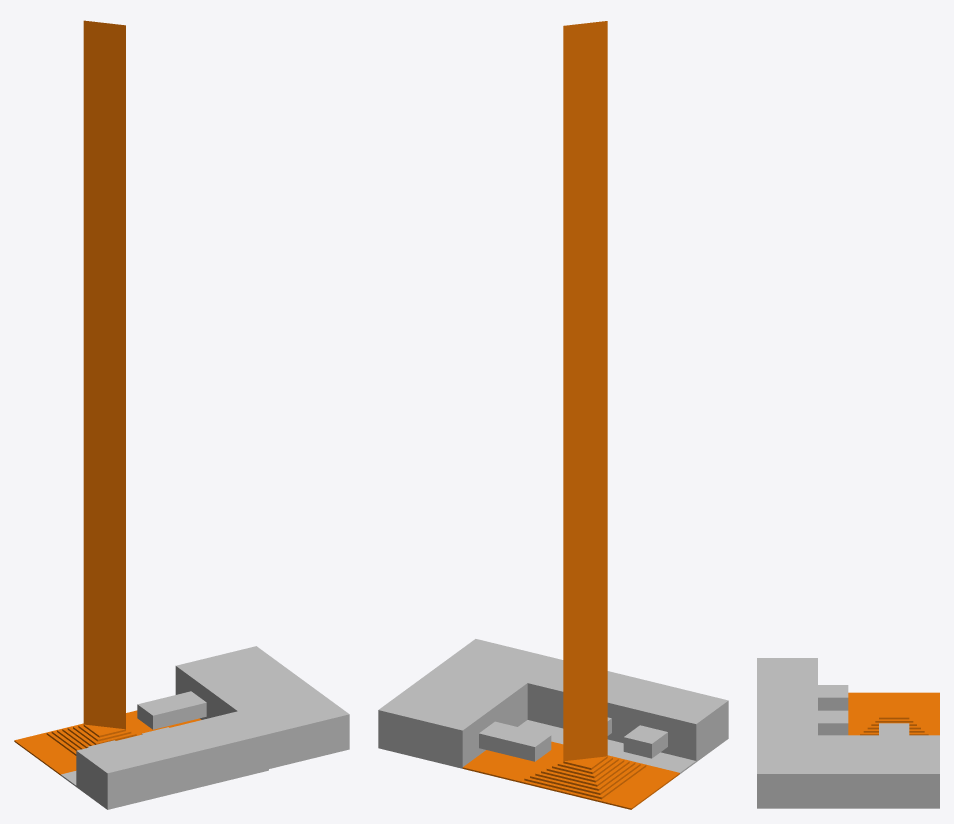
File: world_center.gltf
3 views of the same model, side by side, from view 1: azimuth 30°, elevation 25°; view 2: azimuth 150°, elevation 25°; view 3: azimuth 270°, elevation 25° (orthographic). The views are drawn at different scales.
Parts seen in each view (by area): view 1: beacon, world_center_building; view 2: beacon, world_center_building; view 3: world_center_building, beacon.
Part boxes in pixels (x1=…): beacon: x1=14, y1=20, x2=201, y2=775; world_center_building: x1=61, y1=646, x2=349, y2=809; beacon: x1=462, y1=21, x2=679, y2=809; world_center_building: x1=378, y1=639, x2=728, y2=773; world_center_building: x1=757, y1=658, x2=939, y2=808; beacon: x1=848, y1=692, x2=939, y2=735.
Bounding box in the file's own units: 36 × 102 × 24.
